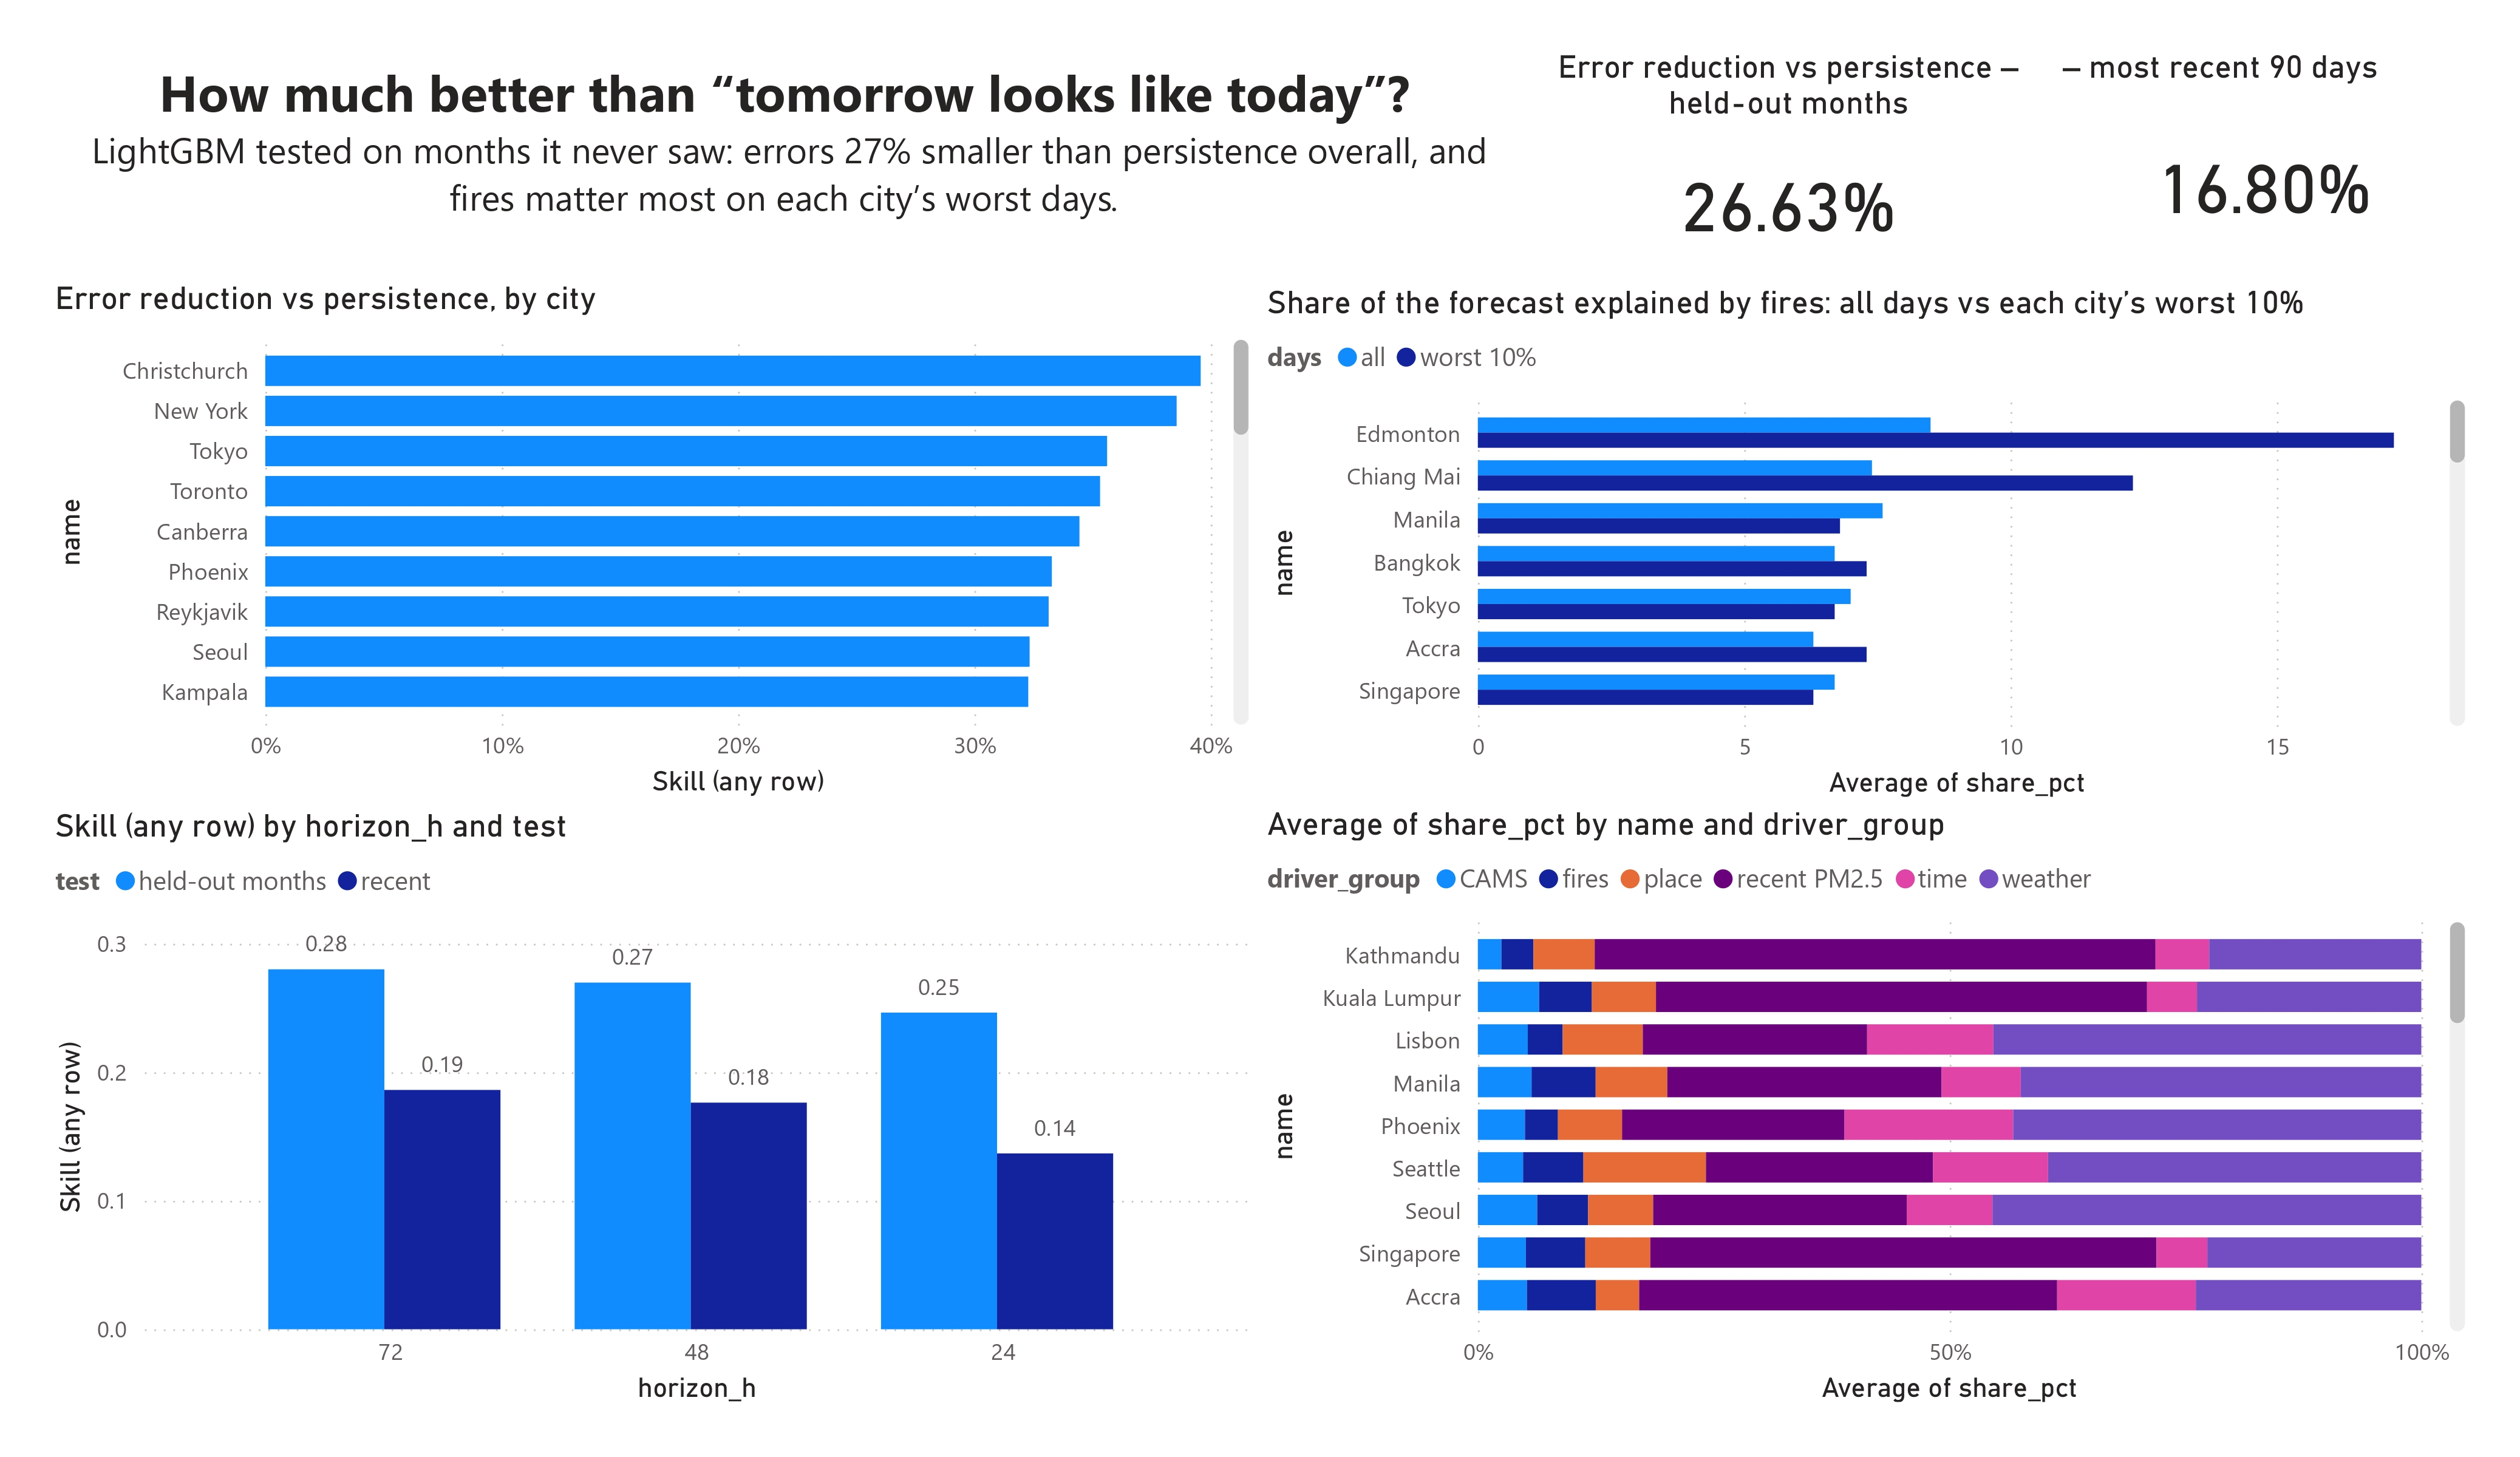

The page's visual inventory and layout, read from the dashboard file:
{"tool":"powerbi","page":{"name":"Model performance","canvas":[1280,720],"ordinal":2},"visuals":[{"type":"card","title":"Error reduction vs persistence – held-out months","fields":{"Values":["_Measures.Skill Held-out"]},"box":[779.4,1.4,278.6,123.5],"z":0},{"type":"card","title":"– most recent 90 days","fields":{"Values":["_Measures.Skill Recent"]},"box":[1058,1.4,222.3,123.5],"z":1000},{"type":"clusteredBarChart","title":"Error reduction vs persistence, by city","fields":{"Category":["Cities.name"],"Y":["_Measures.Skill (any row)"]},"box":[0,123.5,639.5,277.2],"z":2000},{"type":"clusteredColumnChart","fields":{"Category":["Metrics.horizon_h"],"Y":["_Measures.Skill (any row)"],"Series":["Metrics.test"]},"box":[0,400.7,639.5,319.7],"z":3000},{"type":"clusteredBarChart","title":"Share of the forecast explained by fires: all days vs each city’s worst 10%","fields":{"Category":["Cities.name"],"Y":["Avg(ModelDrivers.share_pct)"],"Series":["ModelDrivers.days"]},"box":[639.5,124.9,640.8,275.8],"z":4000},{"type":"hundredPercentStackedBarChart","fields":{"Category":["Cities.name"],"Y":["Avg(ModelDrivers.share_pct)"],"Series":["ModelDrivers.driver_group"]},"box":[639.5,400.3,640.8,319.7],"z":5000},{"type":"textbox","box":[0,1.4,779.4,122.1],"z":6000}]}

Visuals, with their boxes on the page's 1280x720 design canvas (x1, y1, x2, y2). These are canvas units, not pixel positions in the 2520x1457 screenshot, which may show the page scaled, cropped or inside an application window:
"Error reduction vs persistence – held-out months" card: 779/1/1058/125
"– most recent 90 days" card: 1058/1/1280/125
"Error reduction vs persistence, by city" clusteredBarChart: 0/124/640/401
clusteredColumnChart - Metrics.horizon_h x _Measures.Skill (any row): 0/401/640/720
"Share of the forecast explained by fires: all days vs each city’s worst 10%" clusteredBarChart: 640/125/1280/401
hundredPercentStackedBarChart - Cities.name x Avg(ModelDrivers.share_pct): 640/400/1280/720
textbox: 0/1/779/124
